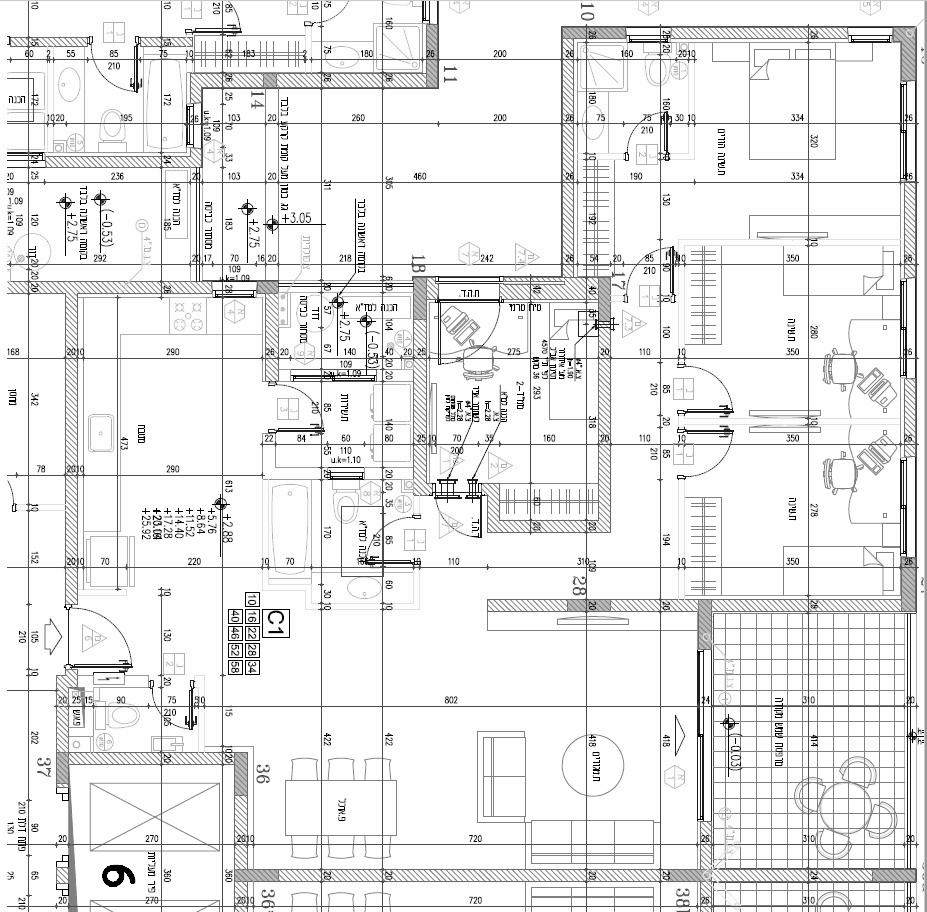door: (82, 605, 138, 674), (357, 511, 410, 567), (687, 427, 740, 478), (685, 365, 738, 416), (278, 382, 328, 436), (433, 496, 485, 542), (148, 691, 195, 733)
wall: (235, 868, 875, 882), (488, 597, 901, 612), (598, 277, 611, 533), (414, 278, 428, 495), (562, 26, 574, 278), (68, 751, 248, 766), (56, 678, 71, 788)
window: (899, 80, 917, 179), (899, 277, 917, 376), (900, 456, 918, 555), (436, 275, 499, 303), (211, 279, 258, 297), (185, 104, 204, 146), (625, 27, 670, 42), (846, 26, 891, 41)
